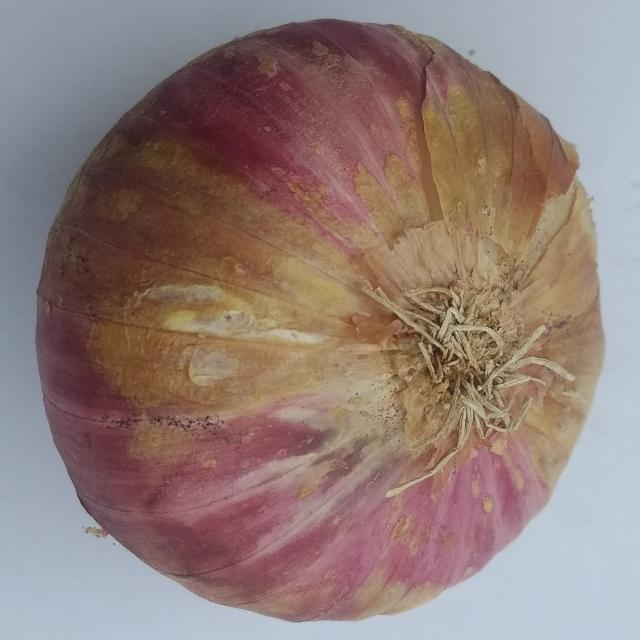onion: (33, 18, 606, 625)
